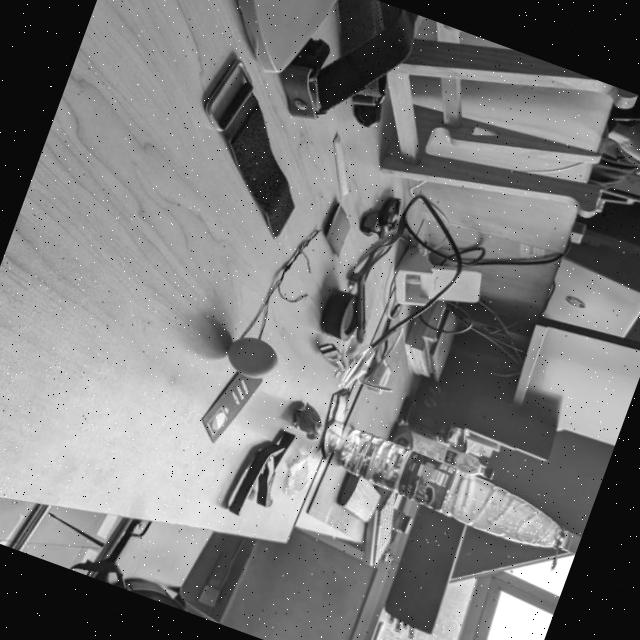ping-pong-ball: (220, 330, 283, 386)
